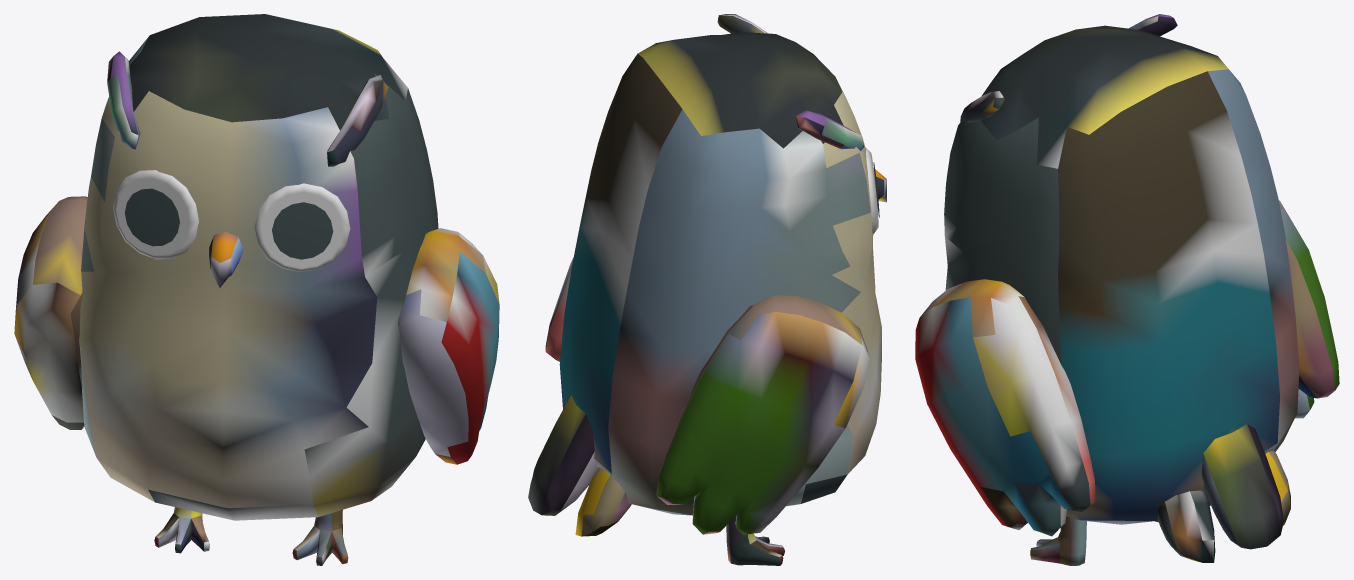
Rendered from SnowOwl.glb.
3 views of the same model, side by side, from view 1: azimuth 30°, elevation 25°; view 2: azimuth 150°, elevation 25°; view 3: azimuth 270°, elevation 25° (orthographic). The views are drawn at different scales.
Visible parts, largest first — view 1: 158; view 2: 158; view 3: 158.
Part boxes in pixels (box(x1,y1,x2,y2)): 158: box(14, 14, 499, 565); 158: box(528, 14, 886, 565); 158: box(915, 14, 1339, 565).
Bounding box in the file's own units: 0.6251 × 0.7707 × 0.6048.
